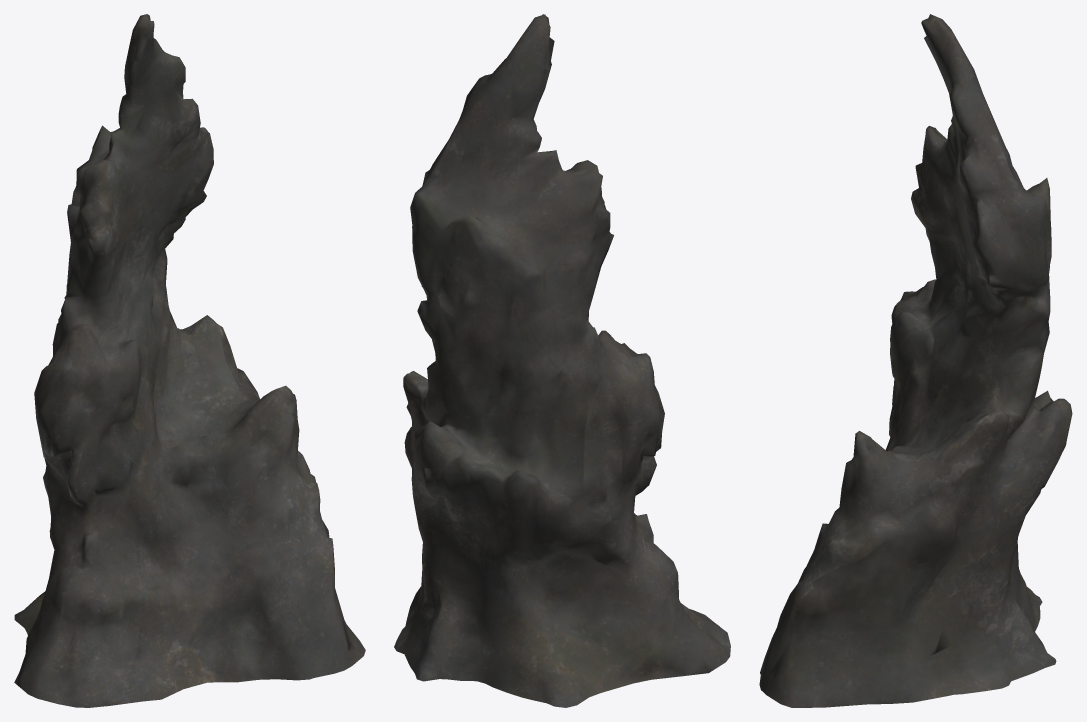
The model's file is Cliff_W3_CraterSpike02.fbx.
3 views of the same model, side by side, from view 1: azimuth 30°, elevation 25°; view 2: azimuth 150°, elevation 25°; view 3: azimuth 270°, elevation 25° (orthographic). The views are drawn at different scales.
Parts seen in each view (by area): view 1: SM_CraterSpike_02.mo; view 2: SM_CraterSpike_02.mo; view 3: SM_CraterSpike_02.mo.
Boxes of the visible parts, x1,y1,x2,y2 form: SM_CraterSpike_02.mo: (14, 14, 365, 707); SM_CraterSpike_02.mo: (394, 14, 730, 707); SM_CraterSpike_02.mo: (759, 14, 1072, 707).
Size of the model in its own units: 5986 by 11881 by 5437.
Materials: 1 (1 with a texture image).
